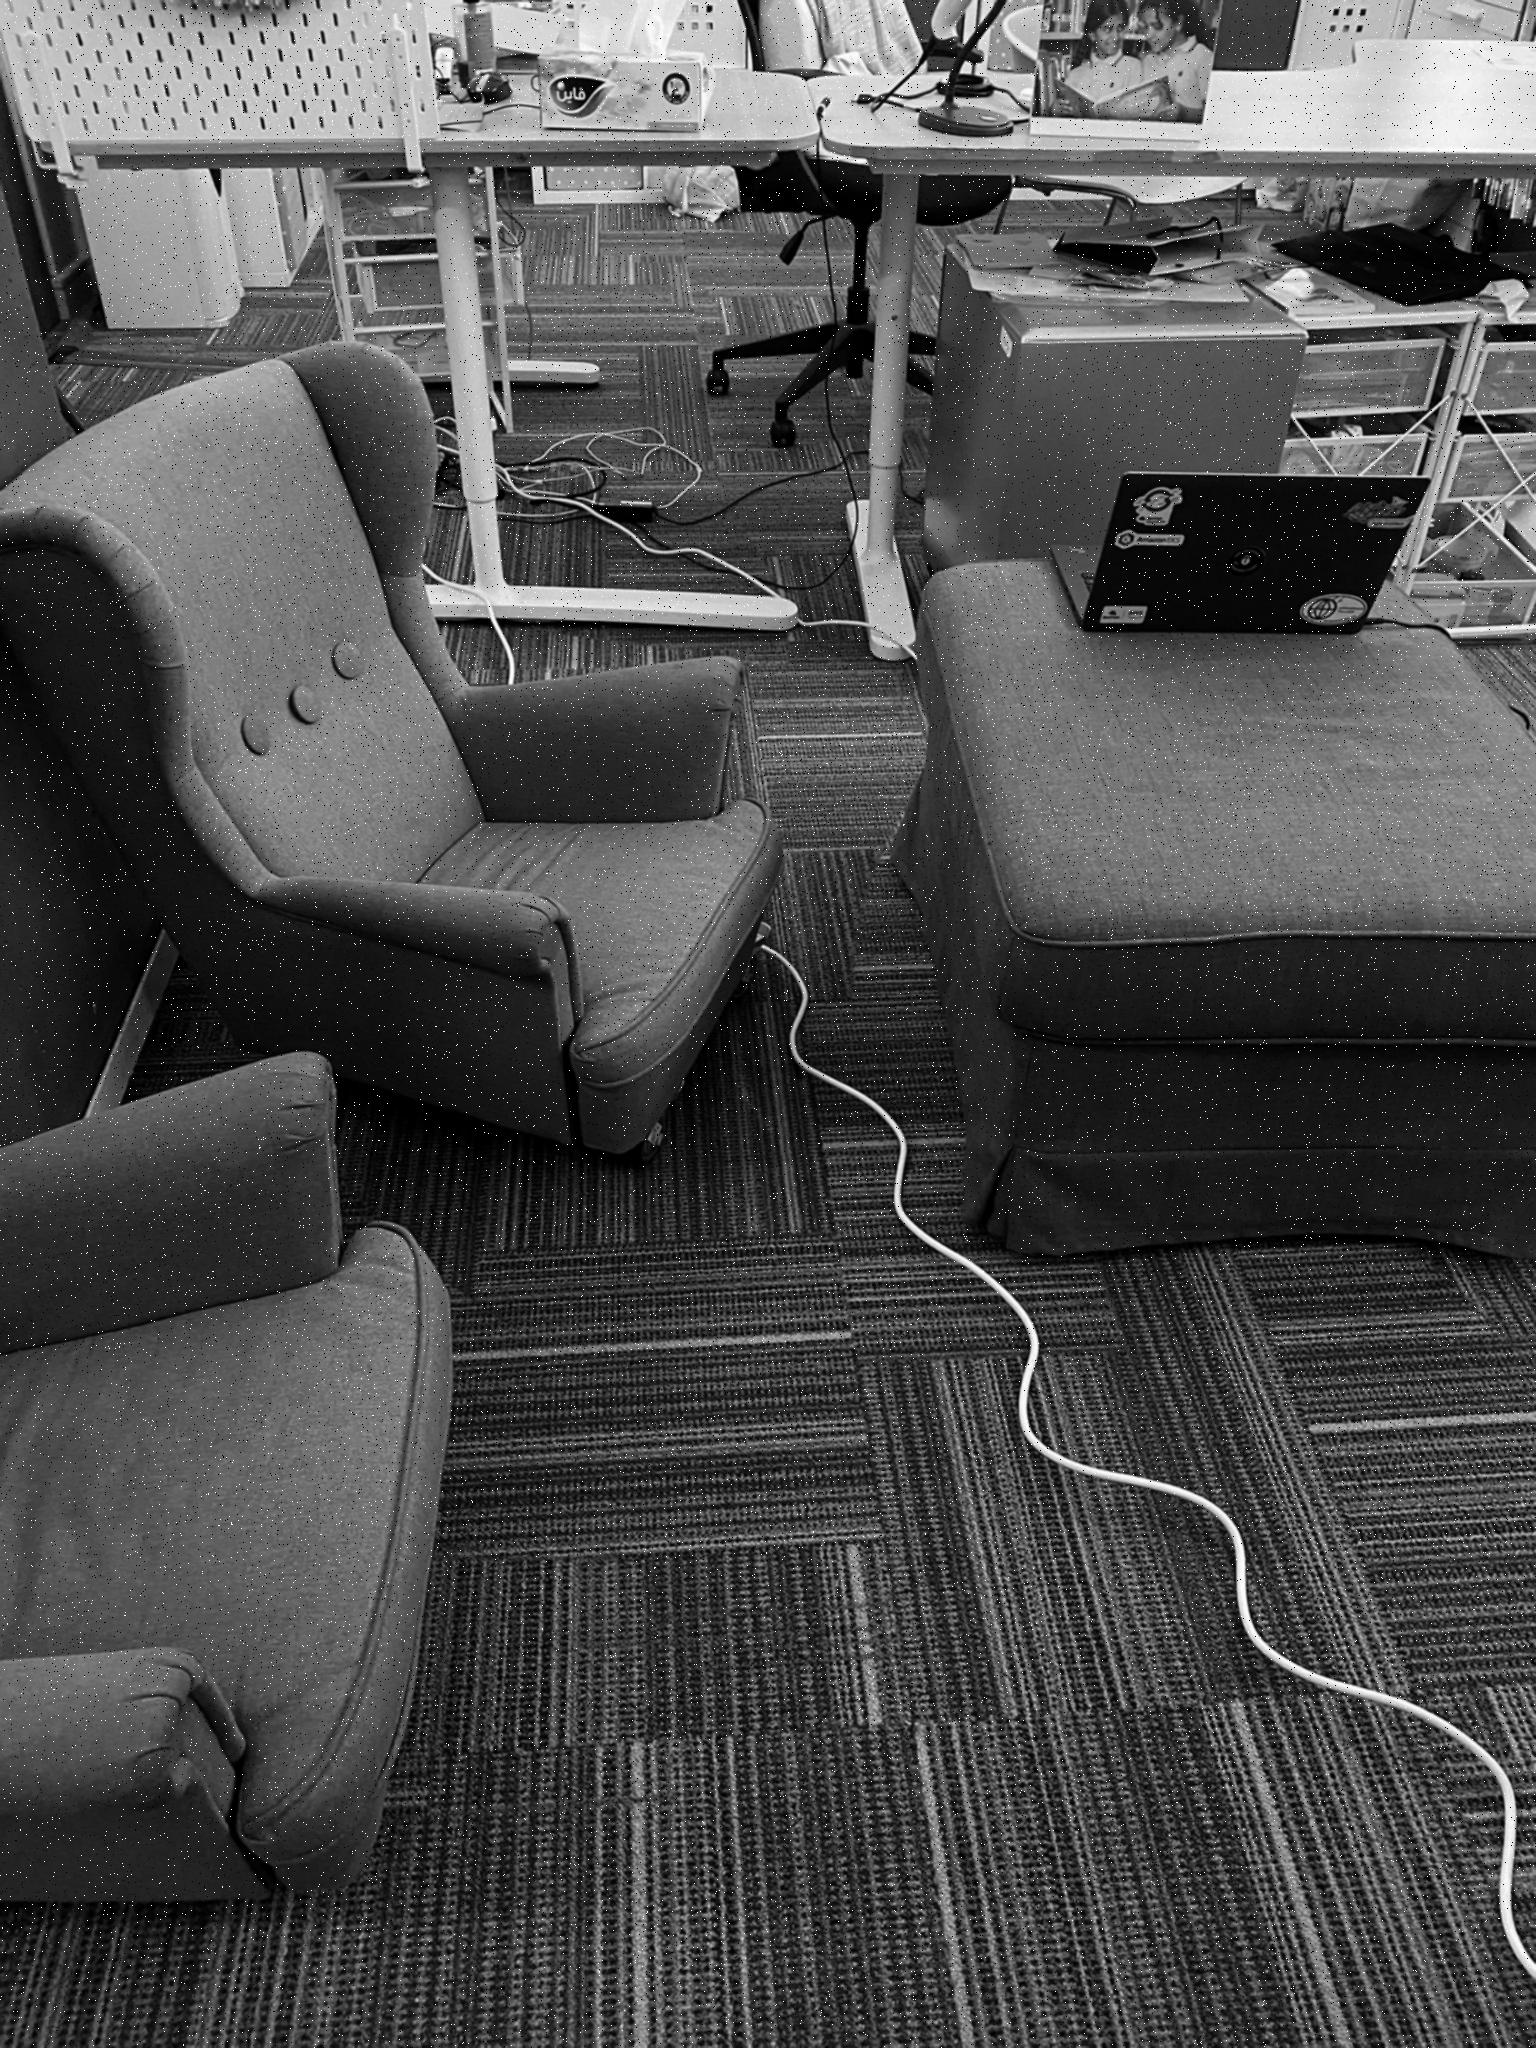Couch: (0, 345, 781, 1900), (892, 563, 1534, 1255)
